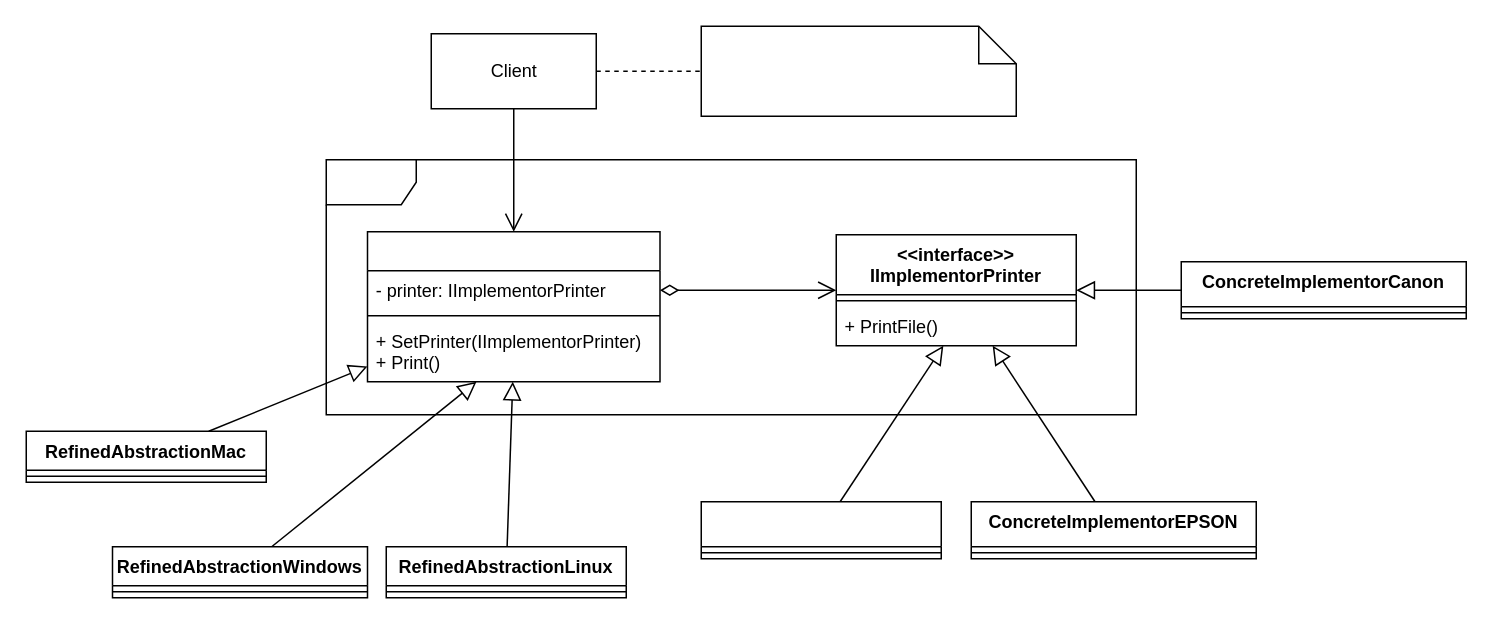
The diagram is 1493 pixels wide and 624 high, and some of its shapes have lost their labels. Each missing label, with the box of its shape:
Bridge: (325, 158, 1136, 415)
ConcreteImplementorHP: (700, 500, 941, 559)
IAbstractionComputer: (366, 230, 660, 382)
IAbstractionConputer.Print(): (700, 25, 1016, 116)
